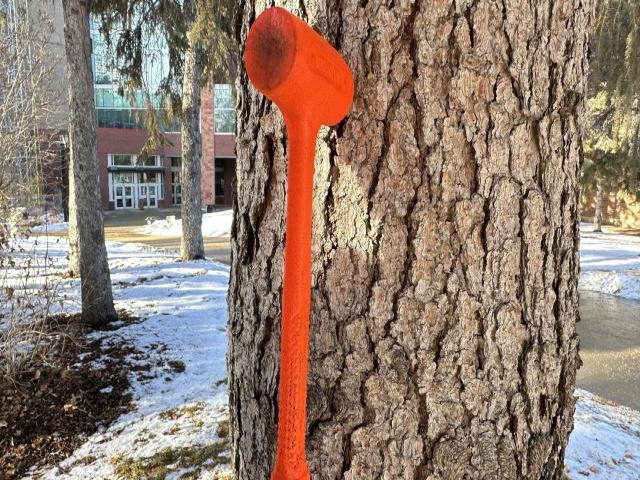hammer: (244, 7, 354, 480)
